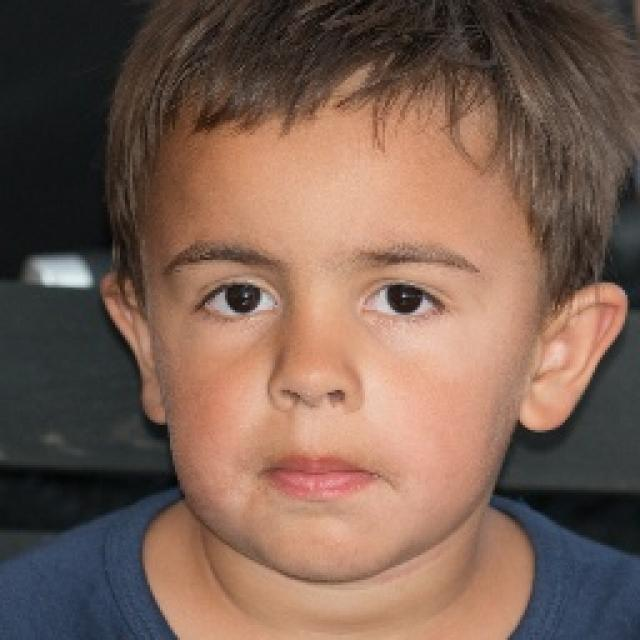earlobe: (518, 367, 586, 433), (139, 359, 167, 426)
eye: (358, 281, 452, 319), (197, 282, 281, 316)
nose: (270, 391, 362, 449)
wholeear: (520, 284, 628, 432), (100, 272, 166, 426)
